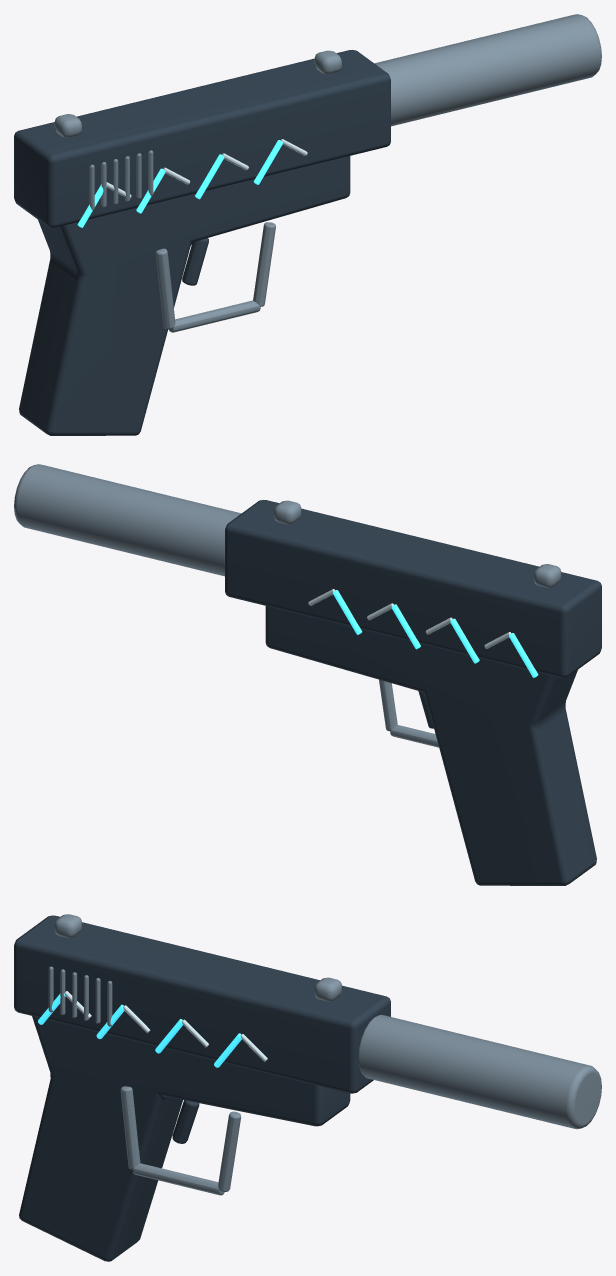
File: usp_s.glb
3 renders of one model, top to bottom at view 1: azimuth 30°, elevation 25°; view 2: azimuth 150°, elevation 25°; view 3: azimuth 330°, elevation 25°, orthographic.
Parts seen in each view (by area): view 1: Lower frame.001, Slide.001, Suppressor.001, Trigger guard.022, Trigger guard.023, Trigger guard.021, Trigger.007; view 2: Lower frame.001, Slide.001, Suppressor.001, Trigger guard.023, Trigger guard.022; view 3: Slide.001, Lower frame.001, Suppressor.001, Trigger guard.022, Trigger guard.023, Trigger guard.021, Trigger.007, Iron sight.003, Iron sight.002.
Boxes of the visible parts, box(x1,y1,x2,y2) form: Lower frame.001: box(19, 156, 350, 435); Slide.001: box(14, 50, 390, 227); Suppressor.001: box(374, 14, 601, 126); Trigger guard.022: box(168, 300, 260, 332); Trigger guard.023: box(253, 222, 275, 306); Trigger guard.021: box(155, 248, 175, 328); Trigger.007: box(182, 238, 208, 285); Lower frame.001: box(265, 606, 596, 885); Slide.001: box(225, 500, 601, 677); Suppressor.001: box(14, 464, 241, 576); Trigger guard.023: box(379, 679, 397, 731); Trigger guard.022: box(390, 725, 438, 747); Slide.001: box(14, 915, 390, 1093); Lower frame.001: box(19, 1016, 350, 1261); Suppressor.001: box(358, 1015, 601, 1129); Trigger guard.022: box(133, 1163, 224, 1195); Trigger guard.023: box(218, 1111, 241, 1191); Trigger guard.021: box(120, 1086, 140, 1169); Trigger.007: box(172, 1100, 199, 1143); Iron sight.003: box(314, 977, 341, 1001); Iron sight.002: box(54, 914, 81, 937).
Bounding box in the file's own units: 3.32 × 1.83 × 0.4464.
